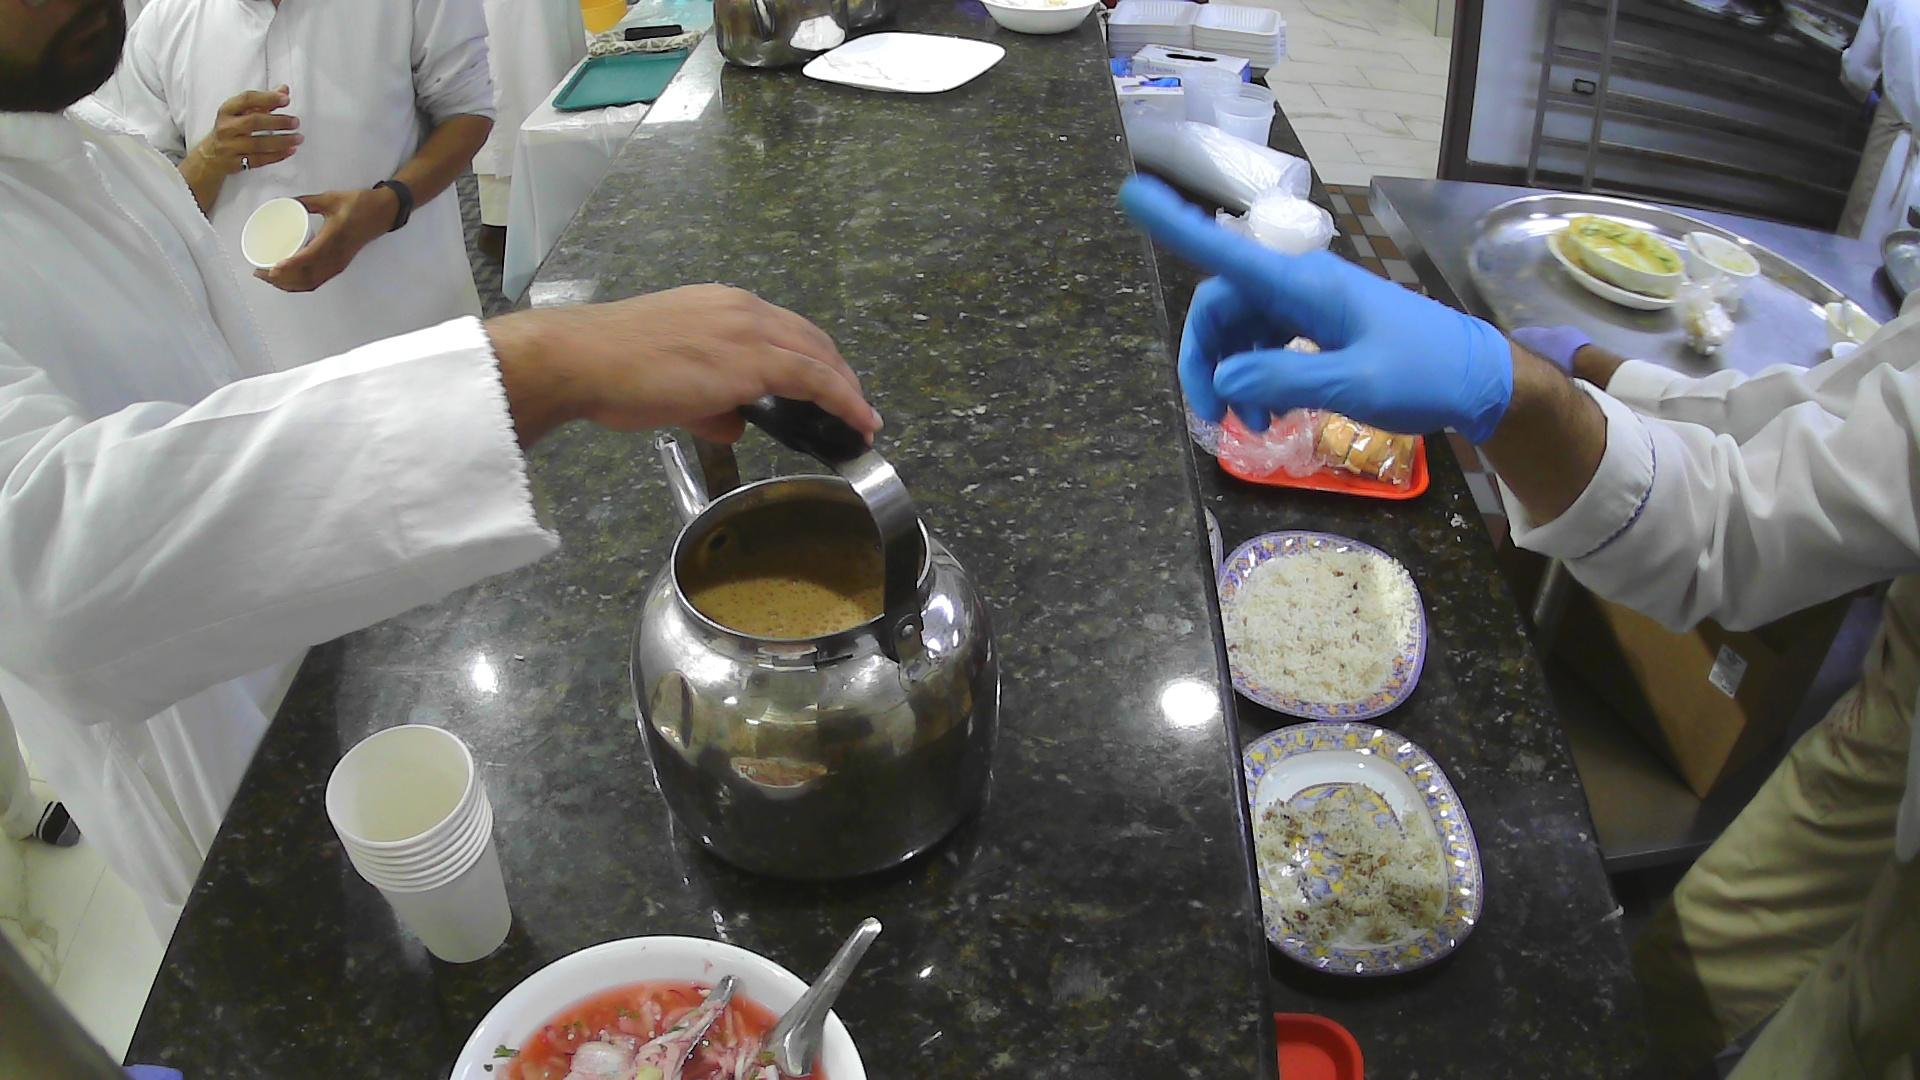thaal: (1455, 191, 1885, 378), (1878, 225, 1920, 304)
